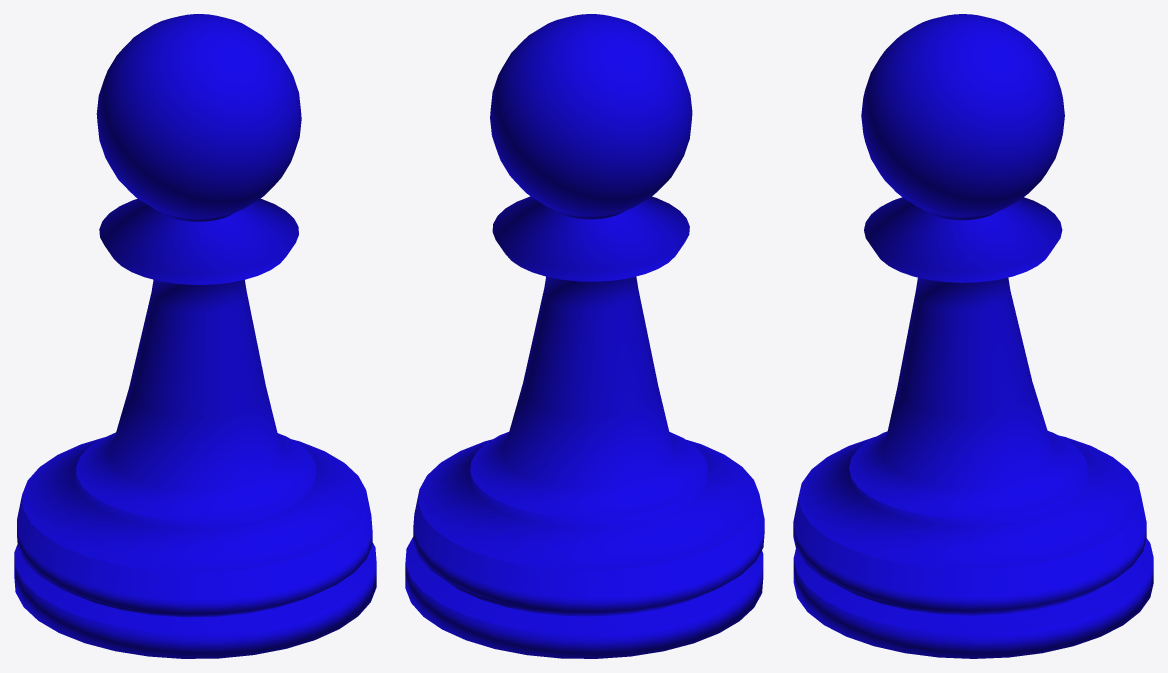
The model's file is pawn1.fbx.
3 views of the same model, side by side, from view 1: azimuth 30°, elevation 25°; view 2: azimuth 150°, elevation 25°; view 3: azimuth 270°, elevation 25° (orthographic).
Visible parts, largest first — view 1: Sphere; view 2: Sphere; view 3: Sphere.
Boxes of the visible parts, left/top/right/bottom form: Sphere: left=14, top=14, right=376, bottom=658; Sphere: left=405, top=14, right=764, bottom=658; Sphere: left=793, top=14, right=1153, bottom=658.
Bounding box in the file's own units: 283 × 484 × 283.
